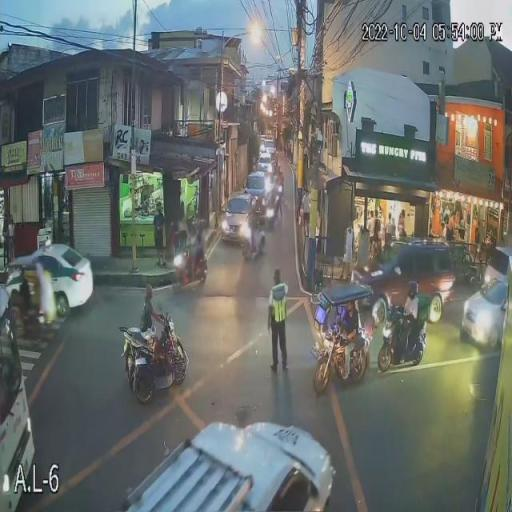helmet: (404, 281, 420, 298)
motorcycle: (376, 314, 427, 374)
rider: (400, 297, 418, 365)
